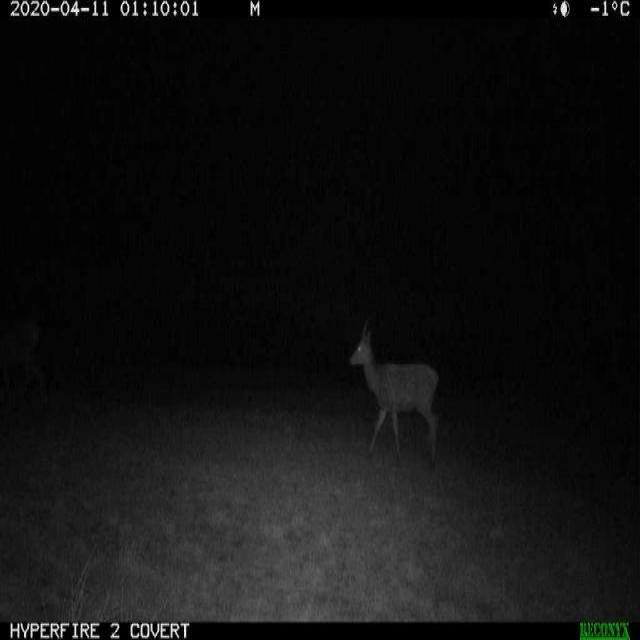deer: (336, 318, 447, 478)
